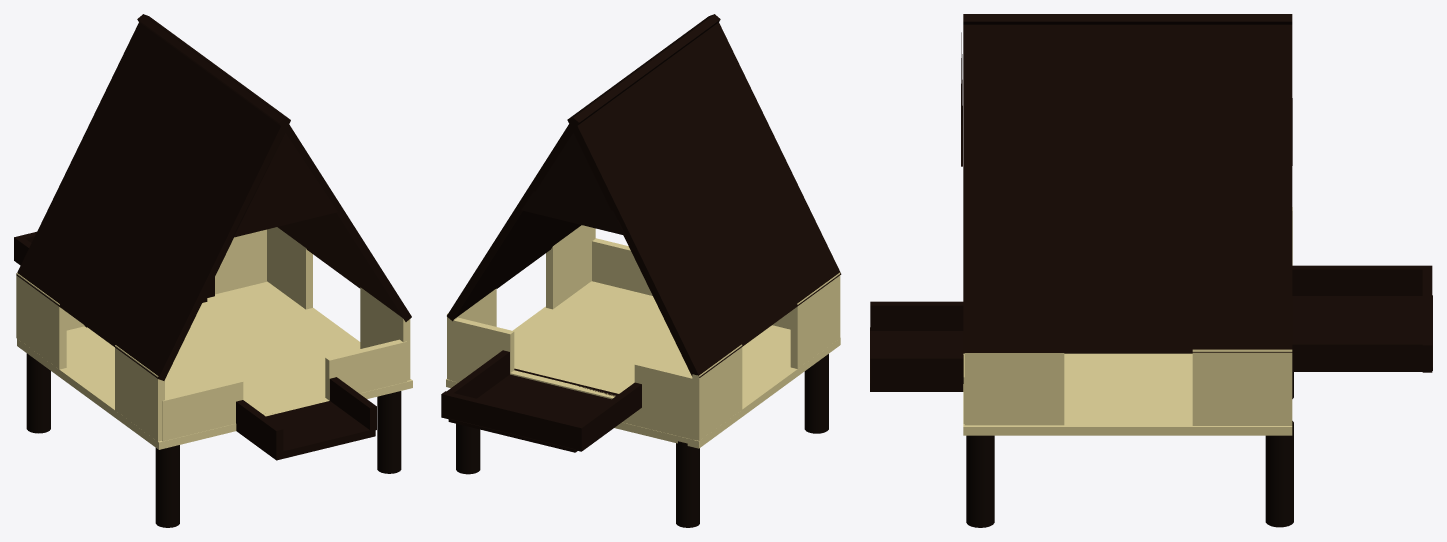
The model's file is beachhouse.dae.
The picture shows the model from 3 angles, left to right: view 1: azimuth 30°, elevation 25°; view 2: azimuth 150°, elevation 25°; view 3: azimuth 270°, elevation 25°; orthographic projection. The views are drawn at different scales.
Parts seen in each view (by area): view 1: Box002, Box001, Box003, Pyramid001, Box004, Box026, Box023, Box010, Box022, Box025, Box024, Cylinder002 (+6 smaller); view 2: Box002, Box001, Box003, Pyramid002, Box017, Box018, Box023, Box022, Box024, Box009, Box008, Box010 (+7 smaller); view 3: Box003, Box001, Box025, Box024, Box017, Box019, Box020, Box002, Box012, Box004, Box013, Cylinder004 (+2 smaller).
Part boxes in pixels (x1,y1,x2,y2): Box002: (16, 14, 290, 380); Box001: (17, 281, 412, 449); Box003: (137, 14, 411, 321); Pyramid001: (233, 132, 337, 237); Box004: (236, 401, 375, 460); Box026: (162, 378, 243, 441); Box023: (16, 273, 66, 369); Box010: (325, 339, 407, 400); Box022: (115, 345, 164, 441); Box025: (267, 227, 312, 309); Box024: (360, 287, 410, 380); Cylinder002: (155, 445, 179, 527); Box002: (567, 14, 841, 377); Box001: (446, 281, 840, 448); Box003: (447, 14, 720, 321); Pyramid002: (521, 132, 625, 235); Box017: (448, 374, 611, 452); Box018: (441, 391, 584, 451); Box023: (692, 344, 742, 440); Box022: (790, 272, 840, 368); Box024: (546, 225, 595, 309); Box009: (634, 361, 692, 421); Box008: (454, 317, 514, 374); Box010: (592, 238, 652, 295); Box003: (963, 24, 1292, 353); Box001: (963, 353, 1292, 435); Box025: (1192, 349, 1292, 425); Box024: (964, 353, 1064, 425); Box017: (1292, 295, 1432, 370); Box019: (1292, 340, 1428, 371); Box020: (1292, 265, 1428, 295); Box002: (963, 14, 1292, 24); Box012: (870, 354, 963, 385); Box004: (870, 327, 963, 391); Box013: (870, 301, 963, 330); Cylinder004: (1265, 421, 1293, 527).
Bounding box in the file's own units: 56.01 × 80.55 × 92.41.
